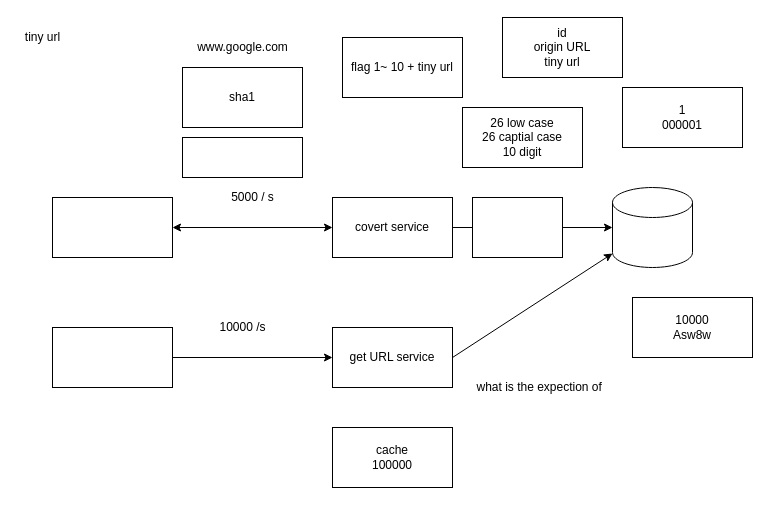
The diagram is 770 pixels wide and 505 high, and some of its shapes have lost their labels. The shapes that lost their labels are listed below. From the top down, each one's box as (x1, y1, x2, y2) in pixels, then its label:
(182, 136, 302, 178): adewfweg+dsffffrer
(52, 196, 172, 258): UI
(472, 196, 562, 258): MQ
(612, 186, 692, 268): id auto inc
(52, 326, 172, 388): click url
